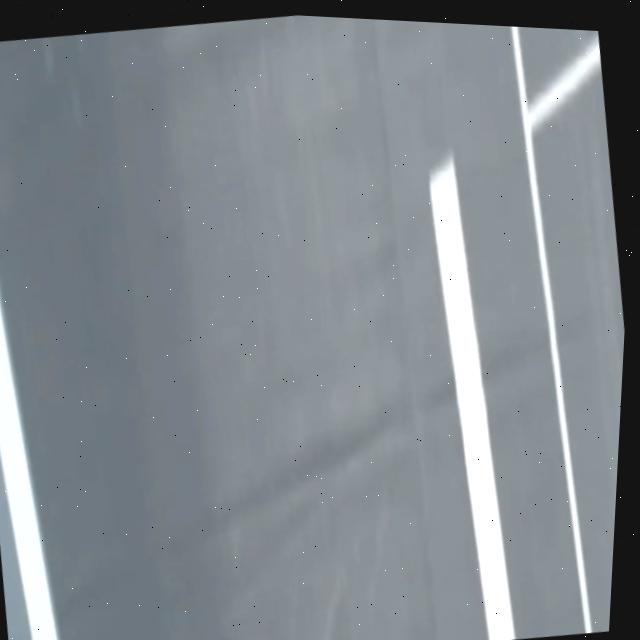center: (431, 157, 515, 640)
